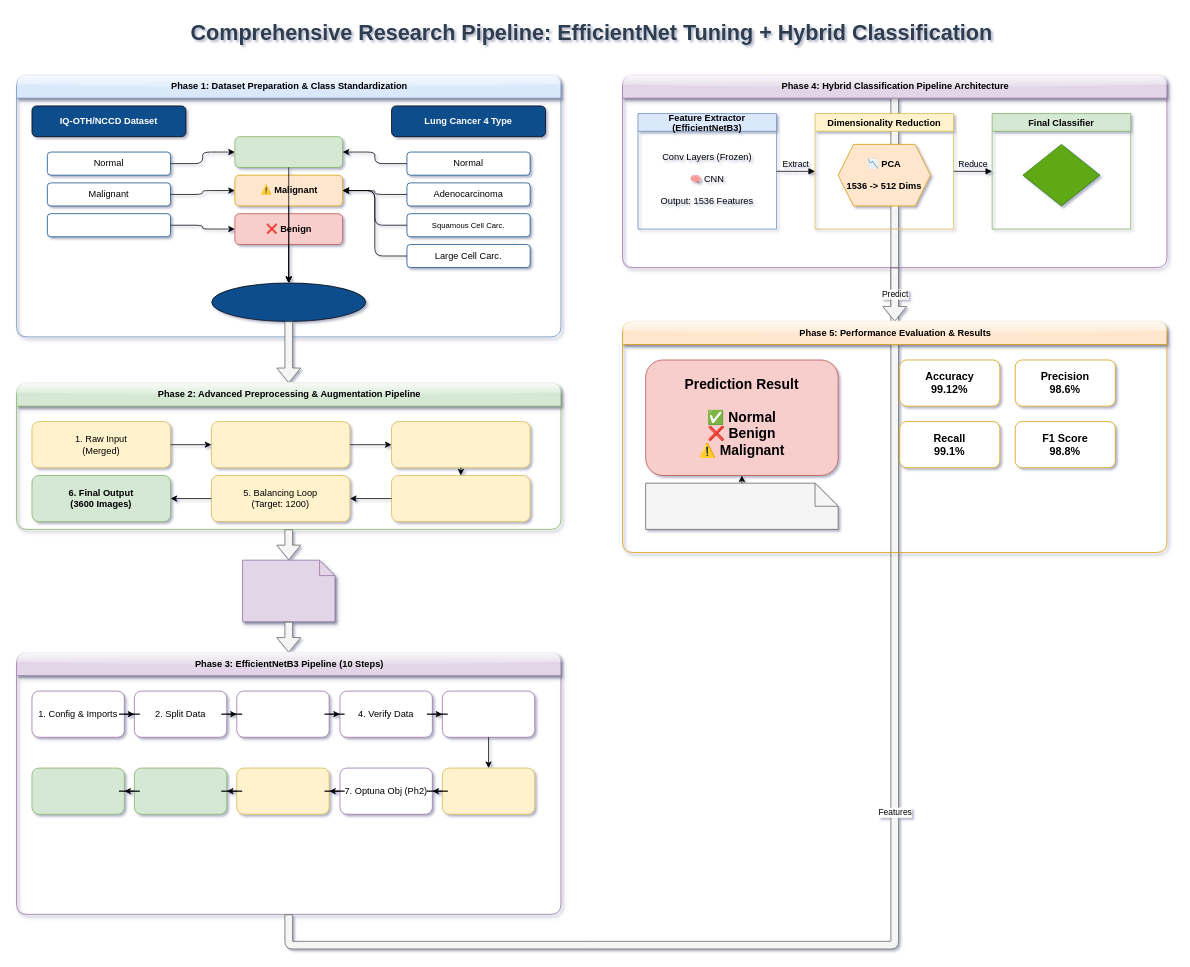
The diagram is 1190 pixels wide and 967 high, and some of its shapes have lost their labels. The centre of each missing label's shape, as x and y in pixels:
10. Tuned Feature Extractor: the point at 77,790
2. No-Resize Strategy (Original Res): the point at 280,444
3. Contrast Enh. (CLAHE & Gamma): the point at 460,444
3. Define Model: the point at 282,713
4. Augmentations (Rot/Zoom/Shear): the point at 460,498
5. Optuna Obj (Ph1): the point at 488,713
6. Run Optuna (Hyperparams): the point at 488,790
8. Run Optuna (Freeze): the point at 282,790
9. Final Training: the point at 180,790
Benign: the point at 109,225
Key Advantages: • CNN Power + SVM Non-linear • PCA reduces noise: the point at 741,505
⚙️ SVM Kernel: RBF: the point at 1061,175
✅ Normal: the point at 288,151
🖼️ Input Image (Augmented): the point at 289,591
🗂️ New Unified Dataset (3 Classes): the point at 288,301
